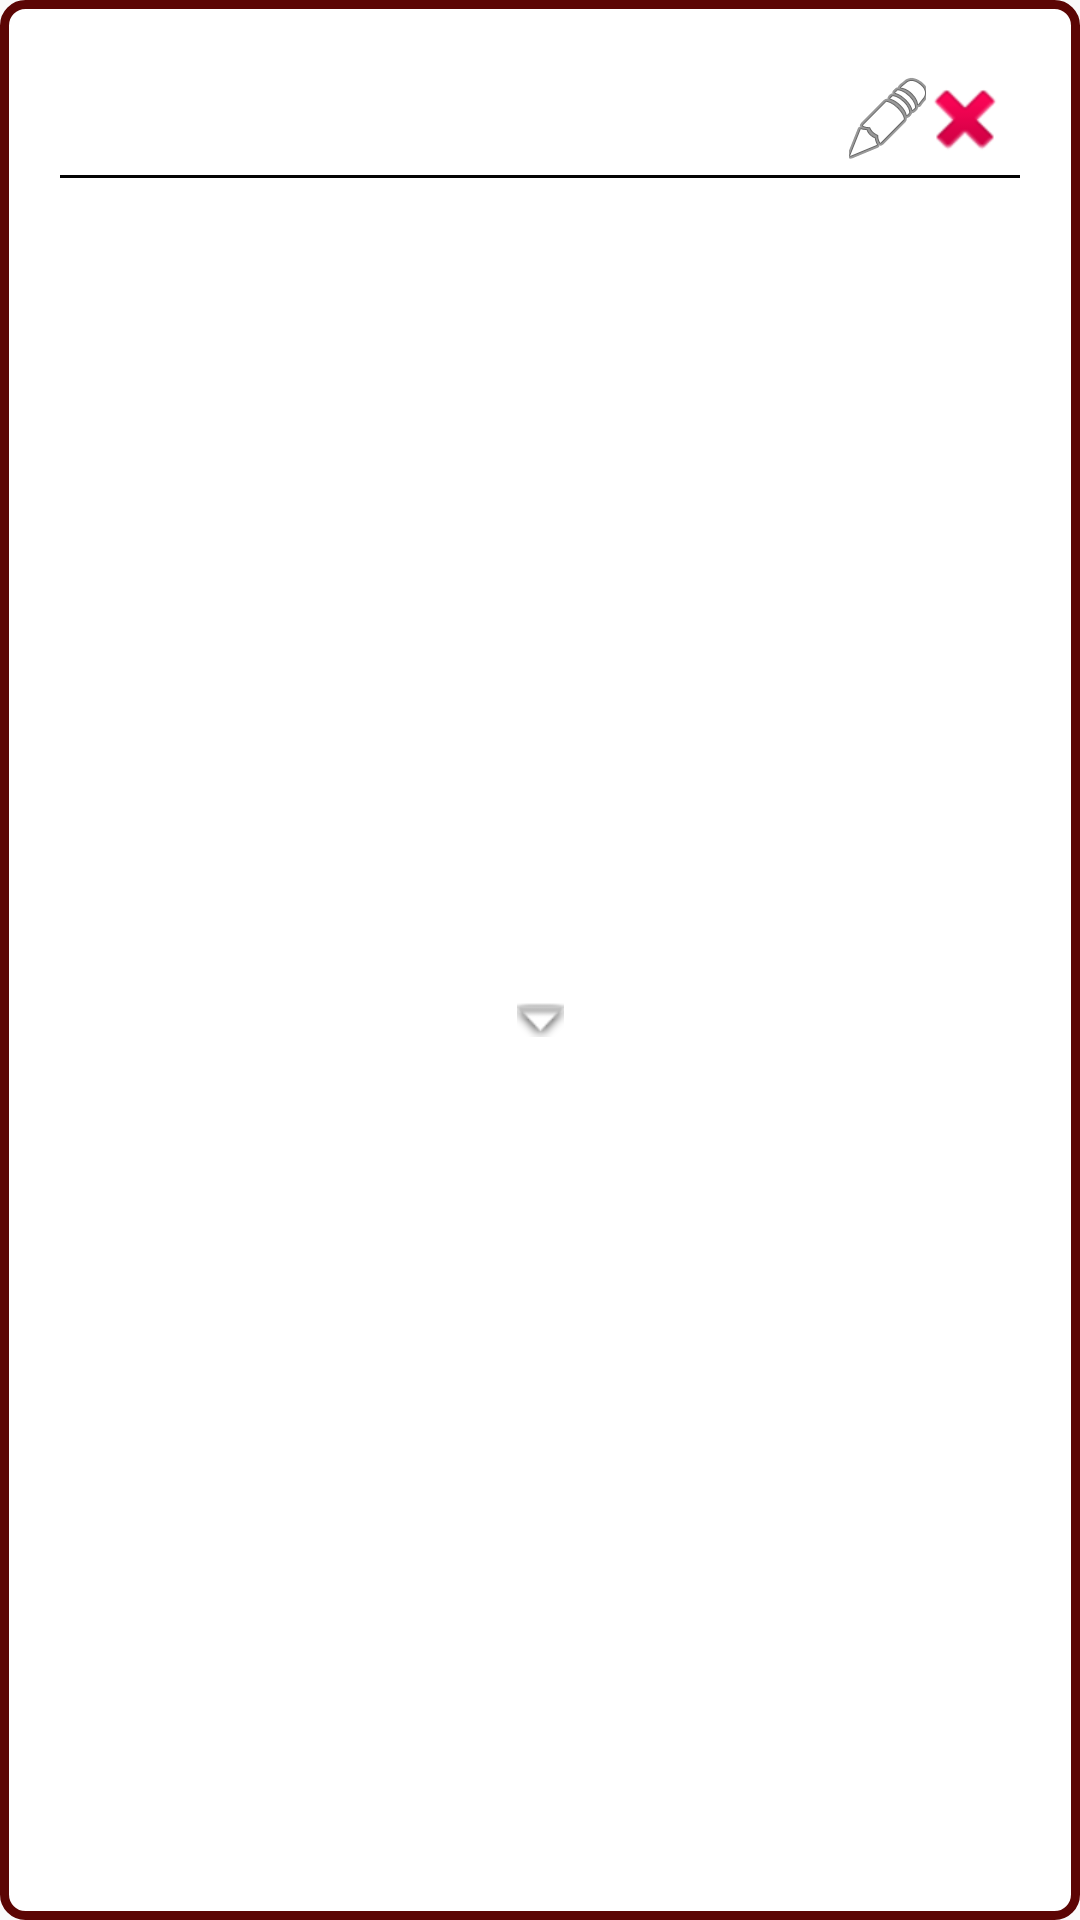

Where icons sit on this 1080px x 1920px app screen, as (x1, y1, x2, y2):
delete: (934, 90, 996, 149)
edit: (849, 78, 926, 159)
